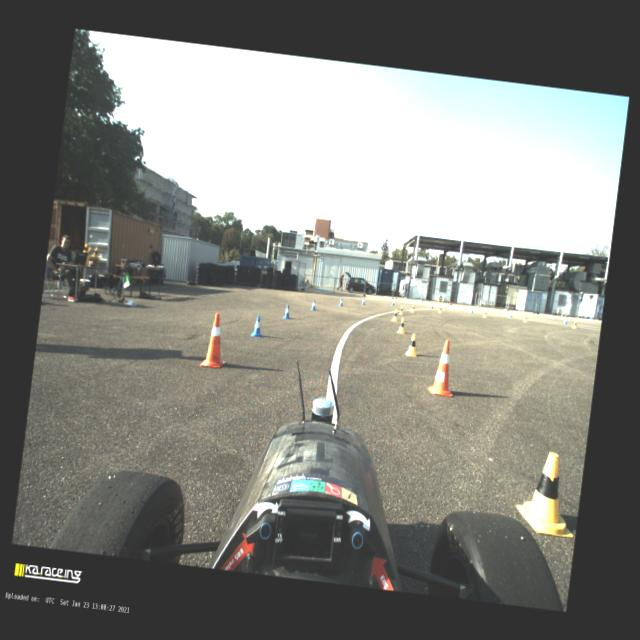blue_cone: (250, 314, 265, 337), (282, 304, 291, 319), (310, 298, 317, 310), (562, 317, 568, 324), (508, 310, 513, 318), (360, 296, 365, 304), (338, 298, 343, 306), (469, 306, 474, 313), (429, 302, 433, 308), (391, 298, 395, 304)
large_orange_cone: (426, 338, 459, 397), (200, 312, 230, 368)
yellow_cone: (513, 449, 582, 537), (404, 332, 419, 357), (396, 317, 406, 334), (90, 246, 99, 258), (392, 309, 398, 321), (82, 242, 88, 252), (398, 306, 404, 315), (571, 320, 577, 328), (522, 314, 528, 322), (86, 246, 90, 258), (437, 305, 442, 313), (410, 303, 414, 312), (482, 309, 486, 317)
